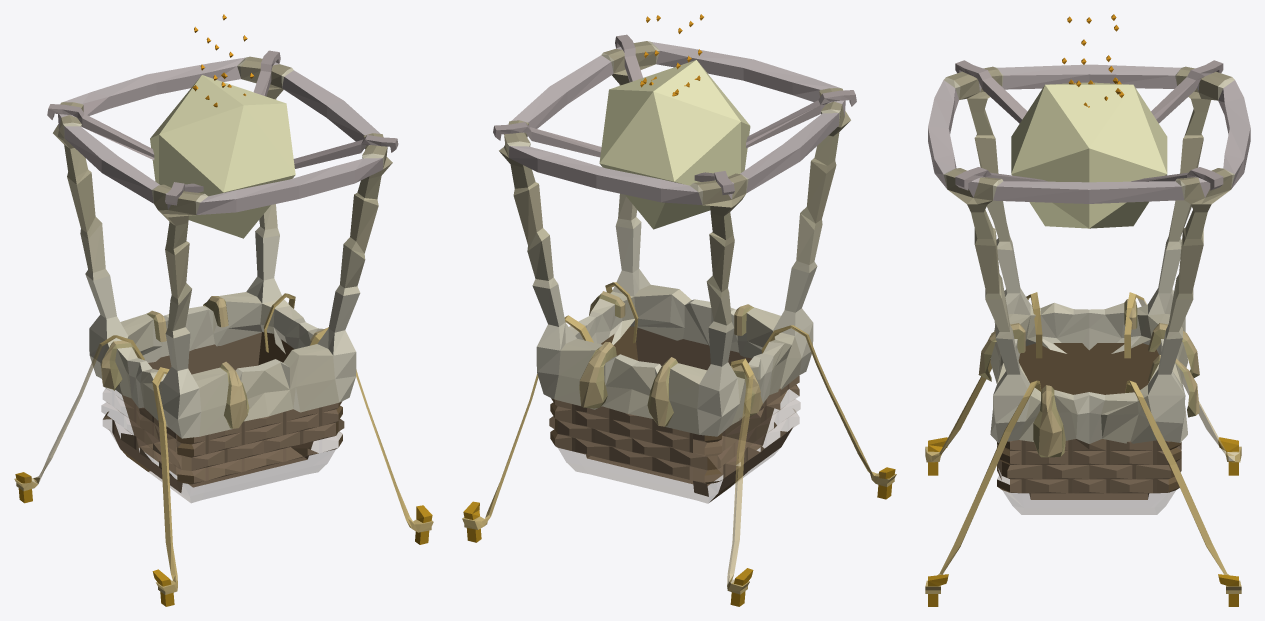
The model's file is balloon-transport.gltf.
3 renders of one model, left to right at view 1: azimuth 30°, elevation 25°; view 2: azimuth 150°, elevation 25°; view 3: azimuth 270°, elevation 25°, orthographic. The views are drawn at different scales.
Size of the model in its own units: 255 by 443 by 250.
Materials: 2 (2 with a texture image).
